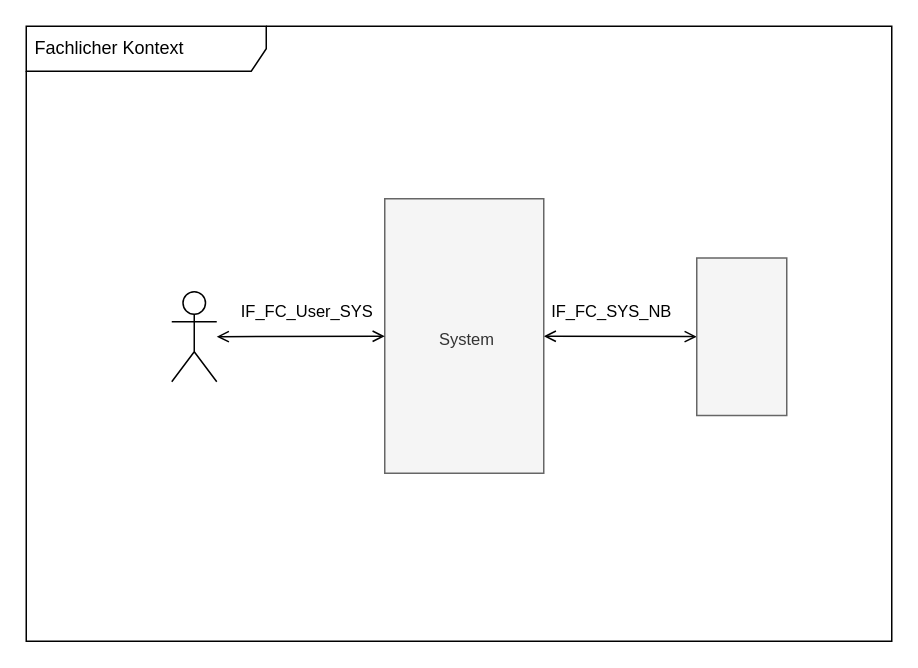
This 918x668 diagram has some shape labels left out. Here are the shapes that lost their labels. From the top down, the box of each, then its label:
(170, 290, 217, 382): User
(695, 256, 787, 416): Neighbor
